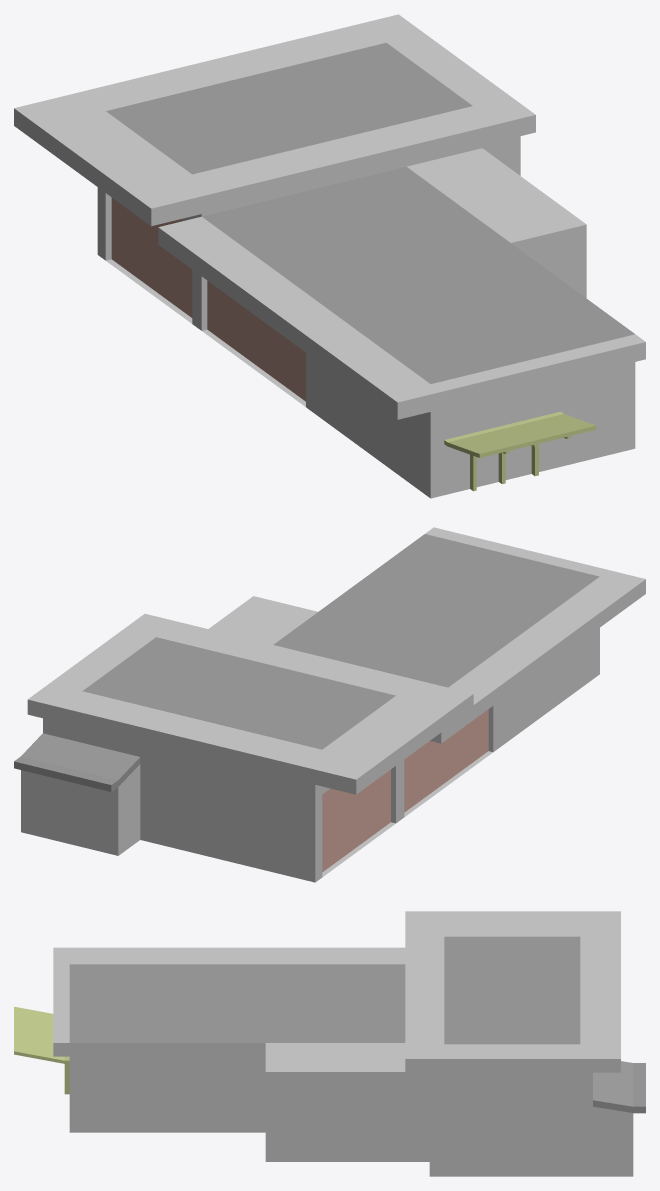
File: syako.fbx
The picture shows the model from 3 angles, top to bottom: view 1: azimuth 30°, elevation 25°; view 2: azimuth 150°, elevation 25°; view 3: azimuth 270°, elevation 25°; orthographic projection. The views are drawn at different scales.
Parts seen in each view (by area): view 1: Cube, Cube.001; view 2: Cube; view 3: Cube, Cube.001.
Part boxes in pixels (box(x1,y1,x2,y2)): Cube: box(14, 14, 645, 498); Cube.001: box(444, 411, 596, 491); Cube: box(14, 527, 645, 882); Cube: box(53, 911, 645, 1176); Cube.001: box(14, 1006, 69, 1094).
Bounding box in the file's own units: 829 × 308 × 1501.
